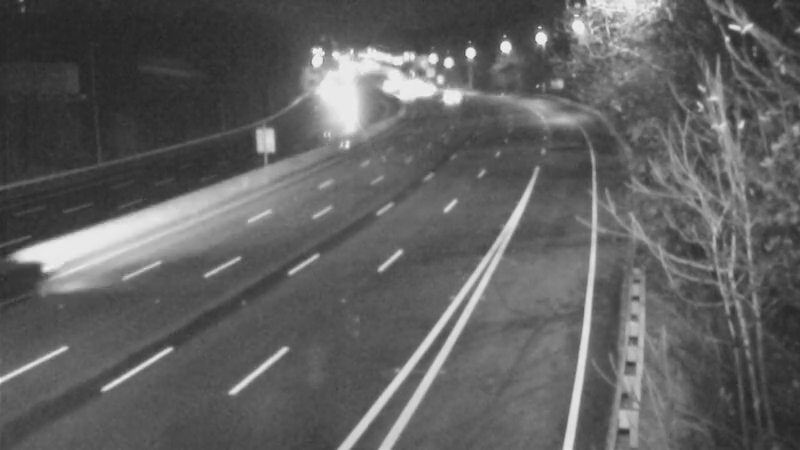vehicle: (1, 234, 68, 314), (425, 69, 475, 119), (376, 68, 426, 118)
